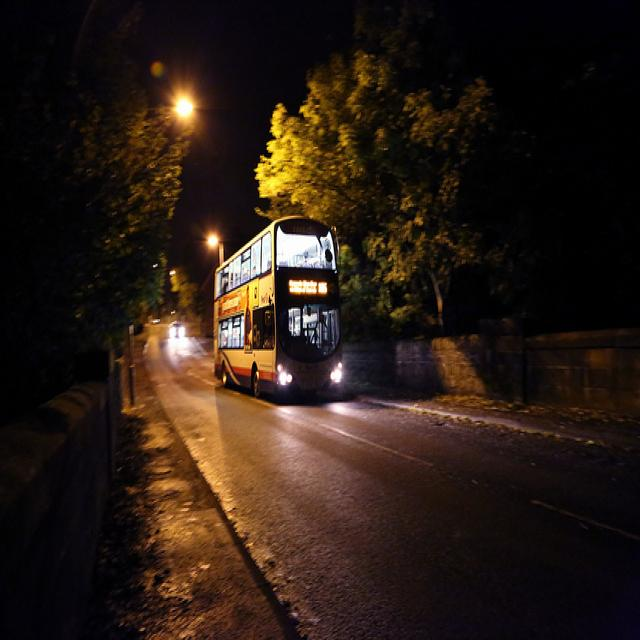Bus: (198, 208, 350, 418)
